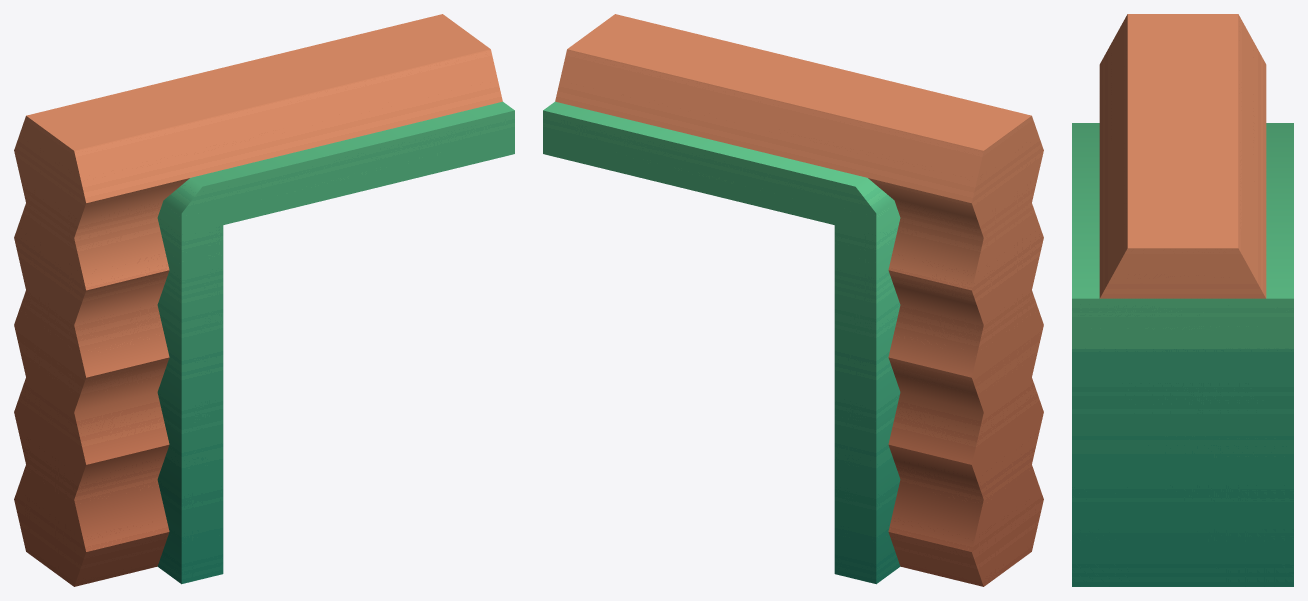
Rendered from cabin-doorway-left.glb.
3 views of the same model, side by side, from view 1: azimuth 30°, elevation 25°; view 2: azimuth 150°, elevation 25°; view 3: azimuth 270°, elevation 25° (orthographic). The views are drawn at different scales.
Parts seen in each view (by area): view 1: cabin-doorway-left; view 2: cabin-doorway-left; view 3: cabin-doorway-left.
Boxes of the visible parts, bbox=[...] form: cabin-doorway-left: bbox=[14, 14, 514, 586]; cabin-doorway-left: bbox=[543, 14, 1043, 586]; cabin-doorway-left: bbox=[1072, 14, 1293, 586].
Size of the model in its own units: 3 by 3 by 1.2.
1 material, 1 textured.
